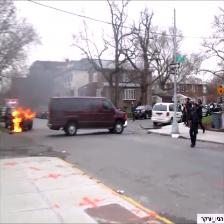fire: (8, 102, 43, 142)
